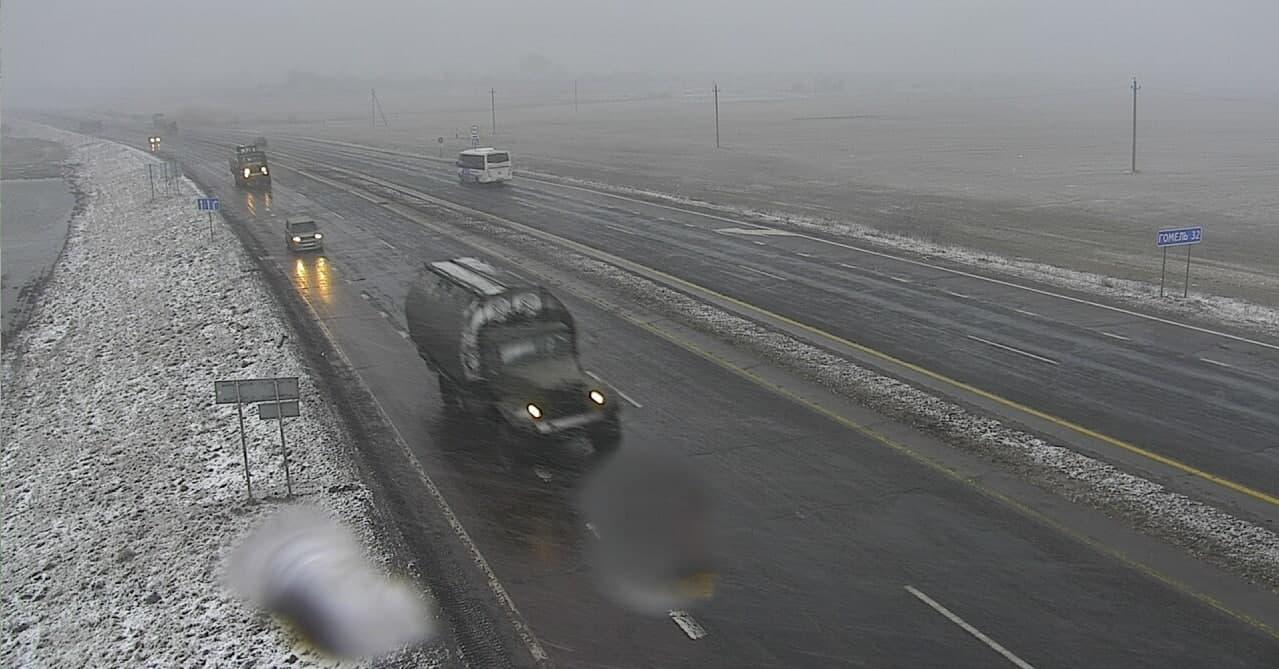car: (276, 219, 324, 256), (147, 132, 164, 148)
truck: (407, 256, 632, 466), (220, 144, 275, 196)
